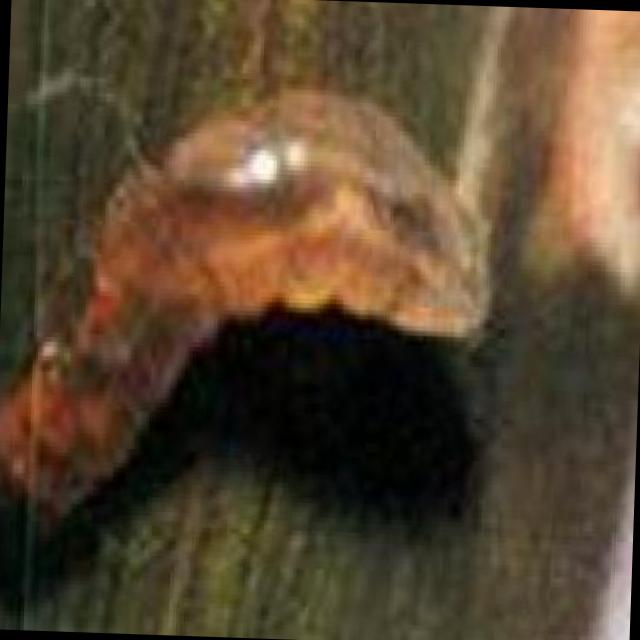whorl-maggot: (0, 89, 491, 546)
